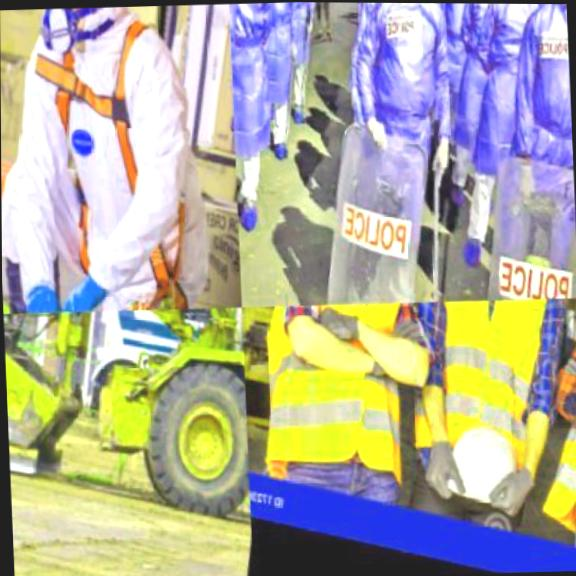safety_vest: (0, 2, 241, 314), (307, 2, 477, 305), (243, 301, 435, 510), (392, 297, 576, 495), (462, 3, 576, 299), (450, 3, 555, 193), (520, 297, 576, 572), (438, 3, 520, 165), (231, 2, 291, 171), (237, 2, 314, 117), (422, 3, 481, 98), (268, 2, 328, 74)
